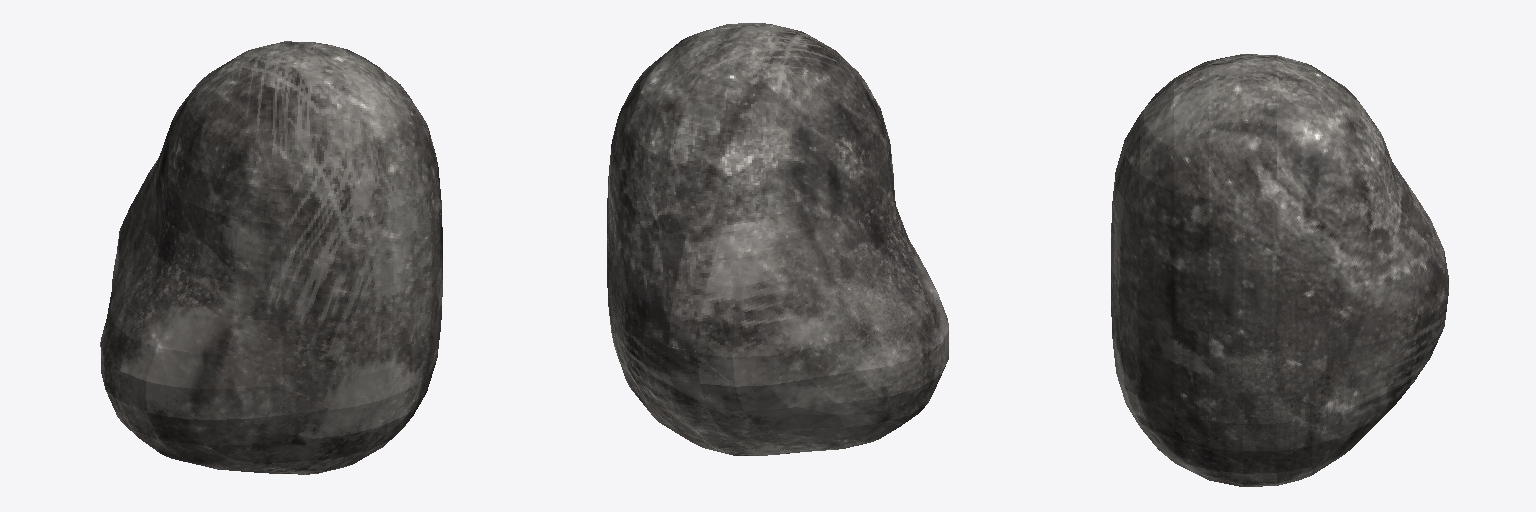
3 views of the same model, side by side, from view 1: azimuth 30°, elevation 25°; view 2: azimuth 150°, elevation 25°; view 3: azimuth 270°, elevation 25° (orthographic).
Parts seen in each view (by area): view 1: Mball.000_Mesh.002_meshId0_name.001; view 2: Mball.000_Mesh.002_meshId0_name.001; view 3: Mball.000_Mesh.002_meshId0_name.001.
Part boxes in pixels (left/top/right/bottom): Mball.000_Mesh.002_meshId0_name.001: left=100, top=41, right=442, bottom=474; Mball.000_Mesh.002_meshId0_name.001: left=607, top=23, right=948, bottom=455; Mball.000_Mesh.002_meshId0_name.001: left=1111, top=54, right=1448, bottom=486.
Bounding box in the file's own units: 0.4682 × 0.5865 × 0.4436.
Materials: 1 (1 with a texture image).